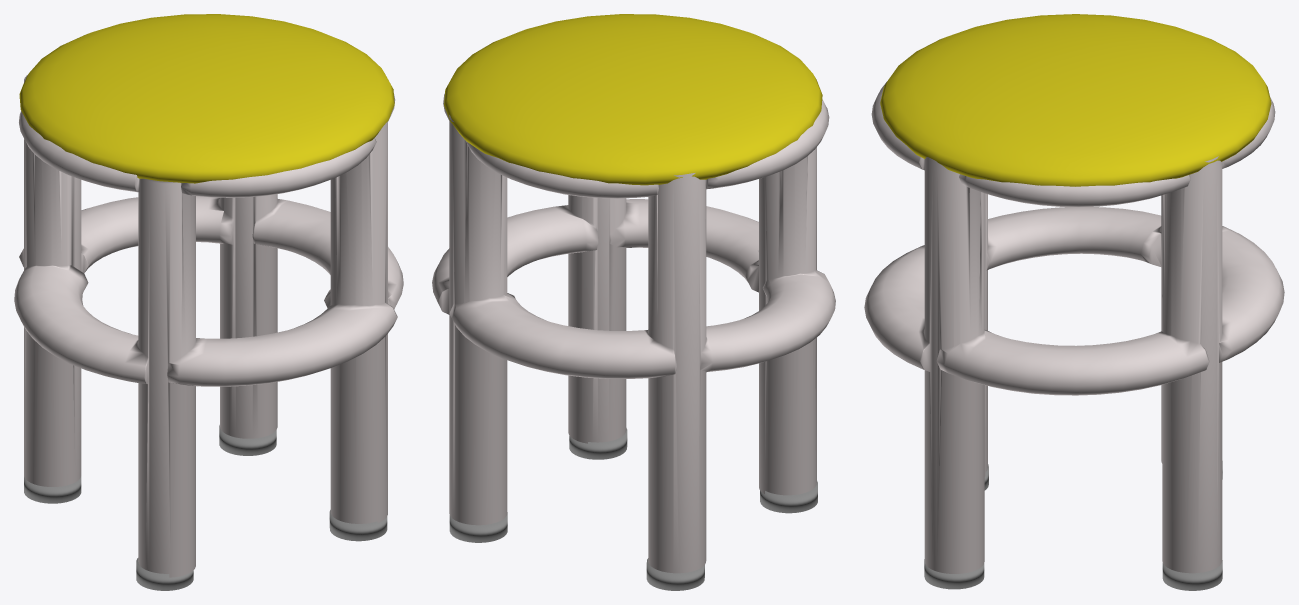
File: laboratory_stool.glb
3 renders of one model, left to right at view 1: azimuth 30°, elevation 25°; view 2: azimuth 150°, elevation 25°; view 3: azimuth 270°, elevation 25°, orthographic. The views are drawn at different scales.
Visible parts, largest first — view 1: Cylinder.002, Sphere, Cylinder.004; view 2: Cylinder.002, Sphere, Cylinder.004; view 3: Cylinder.002, Sphere, Cylinder.004.
Part boxes in pixels (left/top/right/bottom): Cylinder.002: left=14, top=75, right=403, bottom=577; Sphere: left=19, top=14, right=394, bottom=183; Cylinder.004: left=24, top=425, right=387, bottom=590; Cylinder.002: left=432, top=93, right=835, bottom=573; Sphere: left=444, top=14, right=822, bottom=185; Cylinder.004: left=449, top=428, right=817, bottom=590; Cylinder.002: left=864, top=82, right=1284, bottom=573; Sphere: left=880, top=14, right=1271, bottom=186; Cylinder.004: left=924, top=461, right=1222, bottom=590.
Bounding box in the file's own units: 1.97 × 2.42 × 1.98.
